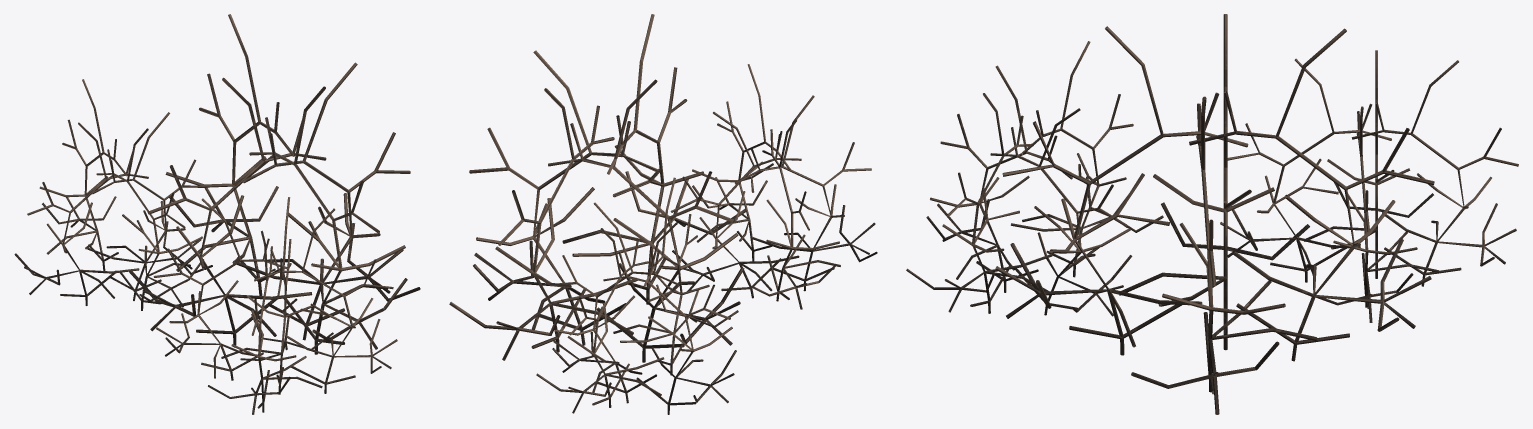
File: deadBushfbx.fbx
3 renders of one model, left to right at view 1: azimuth 30°, elevation 25°; view 2: azimuth 150°, elevation 25°; view 3: azimuth 270°, elevation 25°, orthographic. The views are drawn at different scales.
Parts seen in each view (by area): view 1: Plane.002; view 2: Plane.002; view 3: Plane.002.
Boxes of the visible parts, left/top/right/bottom form: Plane.002: left=14, top=14, right=420, bottom=414; Plane.002: left=449, top=14, right=877, bottom=414; Plane.002: left=906, top=14, right=1518, bottom=414.
Bounding box in the file's own units: 0.6613 × 0.5743 × 0.9077.
1 material, 1 textured.
